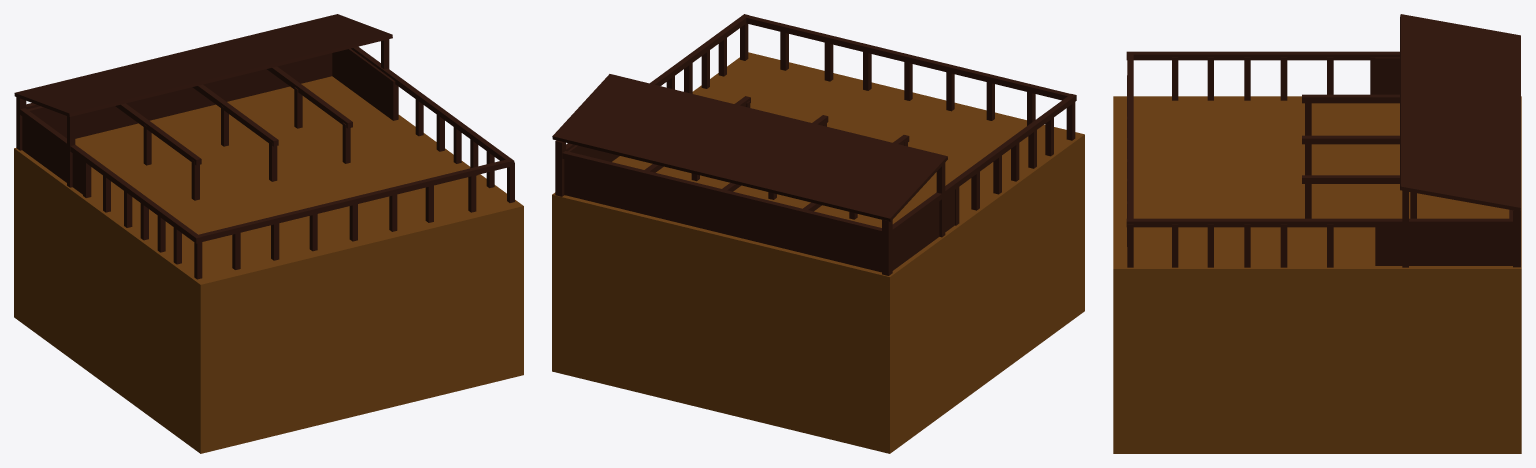
Rendered from stables.obj.
3 renders of one model, left to right at view 1: azimuth 30°, elevation 25°; view 2: azimuth 150°, elevation 25°; view 3: azimuth 270°, elevation 25°, orthographic. The views are drawn at different scales.
Parts seen in each view (by area): view 1: Plane, Cube_Cube.001, Cube.003_Cube.057, Cube.049_Cube.055, Cube.016_Cube.017, Cube.001_Cube.020, Cube.050_Cube.056, Cube.035_Cube.040, Cube.021_Cube.030, Cube.020_Cube.029, Cube.022_Cube.024; view 2: Plane, Cube_Cube.001, Cube.003_Cube.057, Cube.049_Cube.055, Cube.019_Cube.021, Cube.050_Cube.056, Cube.001_Cube.020, Cube.035_Cube.040, Cube.004_Cube.005, Cube.006_Cube.058, Cube.002_Cube.003; view 3: Plane, Cube_Cube.001, Cube.016_Cube.017, Cube.035_Cube.040, Cube.001_Cube.020, Cube.049_Cube.055, Cube.020_Cube.029, Cube.021_Cube.030, Cube.050_Cube.056, Cube.022_Cube.024, Cube.036_Cube.041, Cube.002_Cube.003.
Boxes of the visible parts, x1,y1,x2,y2 form: Plane: (14, 76, 523, 453); Cube_Cube.001: (14, 14, 392, 116); Cube.003_Cube.057: (27, 53, 332, 138); Cube.049_Cube.055: (197, 159, 513, 241); Cube.016_Cube.017: (332, 48, 398, 120); Cube.001_Cube.020: (20, 108, 201, 243); Cube.050_Cube.056: (22, 116, 82, 194); Cube.035_Cube.040: (351, 46, 514, 167); Cube.021_Cube.030: (115, 103, 201, 165); Cube.020_Cube.029: (192, 84, 278, 146); Cube.022_Cube.024: (267, 66, 352, 128); Plane: (552, 52, 1084, 453); Cube_Cube.001: (552, 74, 947, 221); Cube.003_Cube.057: (566, 159, 881, 272); Cube.049_Cube.055: (742, 15, 1072, 100); Cube.019_Cube.021: (562, 151, 881, 236); Cube.050_Cube.056: (892, 190, 954, 270); Cube.001_Cube.020: (892, 94, 1076, 234); Cube.035_Cube.040: (566, 14, 749, 151); Cube.004_Cube.005: (882, 219, 892, 275); Cube.006_Cube.058: (936, 163, 945, 237); Cube.002_Cube.003: (555, 140, 565, 196); Plane: (1113, 96, 1521, 453); Cube_Cube.001: (1400, 14, 1520, 211); Cube.016_Cube.017: (1375, 227, 1512, 265); Cube.035_Cube.040: (1126, 218, 1512, 227); Cube.001_Cube.020: (1126, 51, 1399, 60); Cube.049_Cube.055: (1127, 53, 1133, 224); Cube.020_Cube.029: (1302, 135, 1399, 144); Cube.021_Cube.030: (1302, 94, 1399, 103); Cube.050_Cube.056: (1375, 57, 1399, 94); Cube.022_Cube.024: (1302, 175, 1399, 183); Cube.036_Cube.041: (1402, 190, 1408, 267); Cube.002_Cube.003: (1513, 208, 1520, 267).
Size of the model in its own units: 32 by 23.12 by 32.
